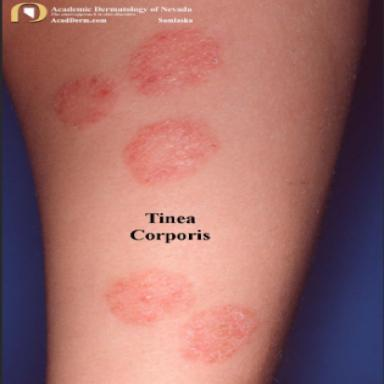Tinea-Corporis: (126, 30, 220, 96), (125, 118, 217, 183), (106, 269, 193, 324), (184, 305, 256, 363), (57, 74, 122, 128)
